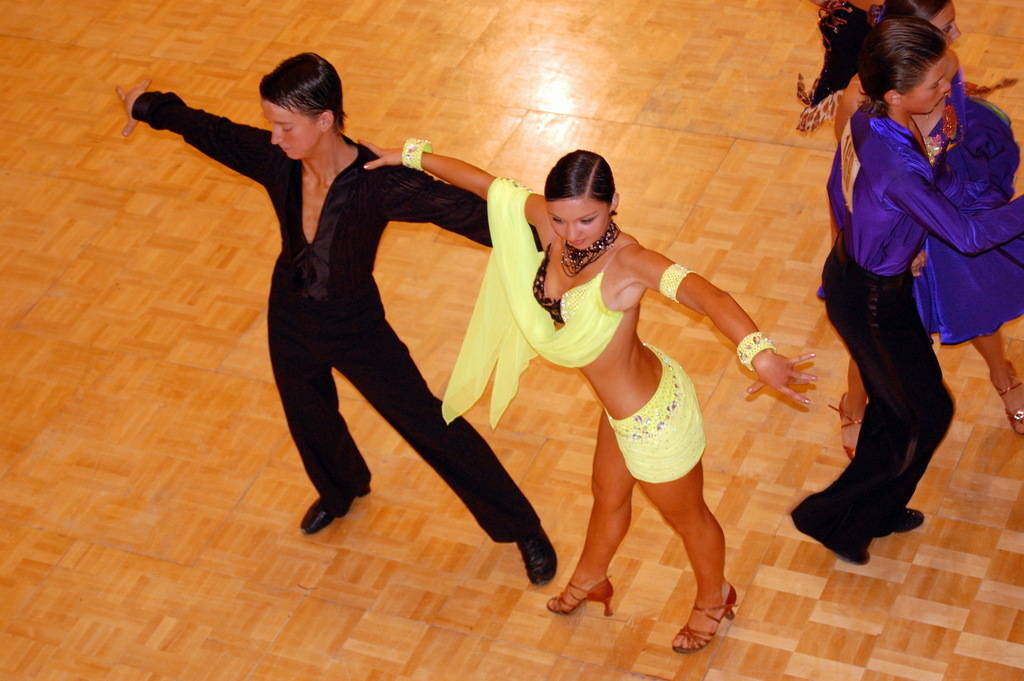Human_hand: (746, 350, 818, 405), (115, 81, 150, 136), (356, 137, 404, 171), (910, 249, 927, 276)
